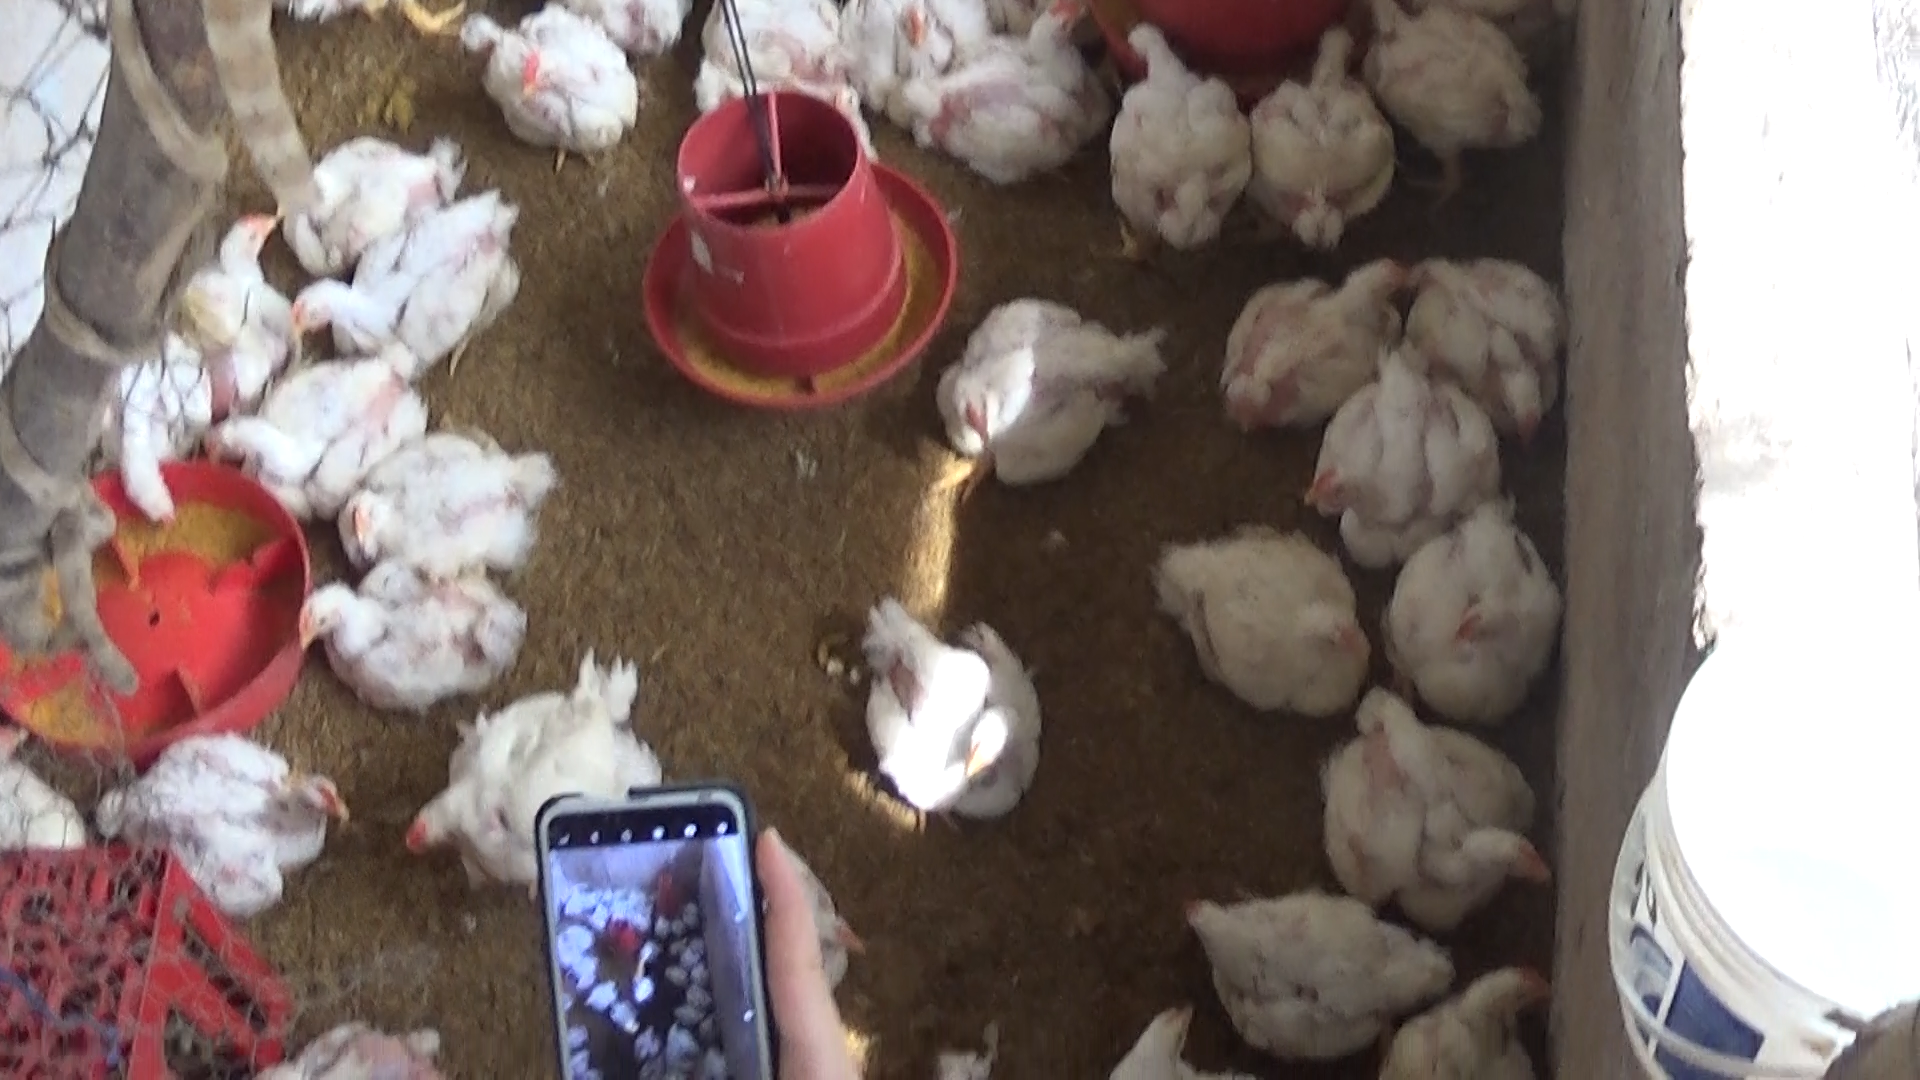Pollos: (388, 640, 688, 895), (1302, 674, 1556, 938), (1176, 857, 1445, 1065), (938, 282, 1166, 516), (281, 178, 521, 396), (1288, 332, 1513, 563), (833, 603, 1060, 823), (1133, 522, 1385, 719), (1092, 3, 1257, 277), (111, 731, 353, 911), (1196, 241, 1422, 429), (926, 0, 1133, 203), (1379, 491, 1575, 703), (322, 427, 568, 593), (1360, 0, 1540, 203), (1246, 22, 1395, 262), (1411, 232, 1576, 447), (293, 551, 535, 696), (204, 371, 435, 495), (471, 0, 644, 157), (189, 203, 313, 384), (1366, 963, 1556, 1073), (696, 0, 861, 123), (861, 0, 1013, 132), (297, 112, 462, 233)
